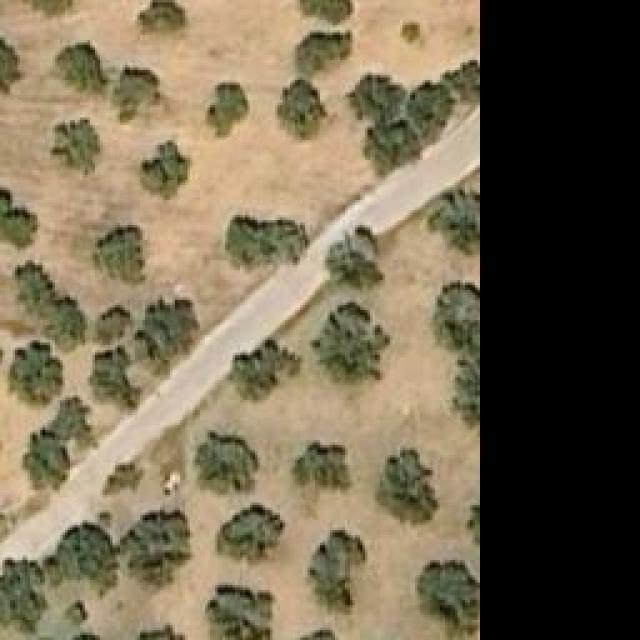Tree: (15, 263, 88, 346), (372, 445, 440, 525), (135, 295, 200, 375), (128, 508, 191, 588), (417, 557, 477, 640), (225, 215, 310, 273), (310, 523, 368, 608), (45, 523, 120, 588), (192, 425, 260, 495), (230, 338, 303, 403), (205, 582, 275, 640), (325, 308, 378, 381), (0, 557, 45, 635), (223, 502, 283, 560), (10, 340, 63, 405), (90, 345, 143, 410), (428, 187, 478, 255), (93, 227, 146, 285), (438, 280, 478, 355), (140, 142, 190, 200), (278, 80, 328, 138), (58, 40, 108, 95), (22, 433, 70, 488), (293, 442, 348, 490), (333, 230, 378, 288), (112, 70, 160, 123), (353, 72, 406, 120), (52, 118, 100, 168), (0, 188, 40, 248), (208, 83, 251, 138), (408, 83, 451, 138), (370, 120, 420, 165), (138, 0, 193, 40), (298, 30, 353, 70), (103, 455, 146, 495), (98, 305, 133, 343), (300, 0, 353, 25), (0, 35, 20, 98), (450, 60, 478, 103), (65, 600, 88, 628), (400, 23, 423, 46)
